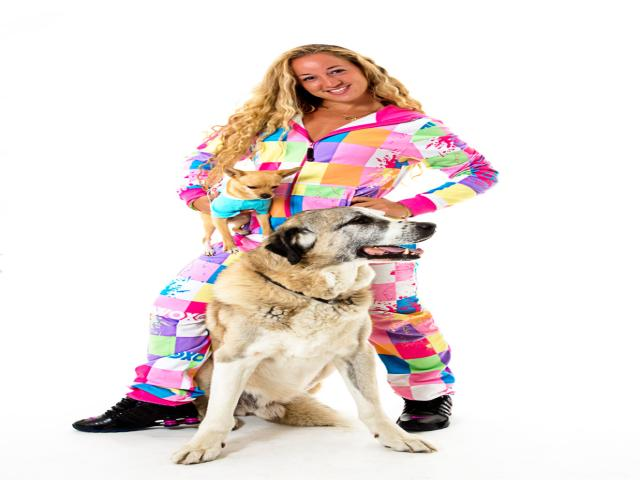Dog: (170, 205, 439, 464), (200, 164, 306, 250)
